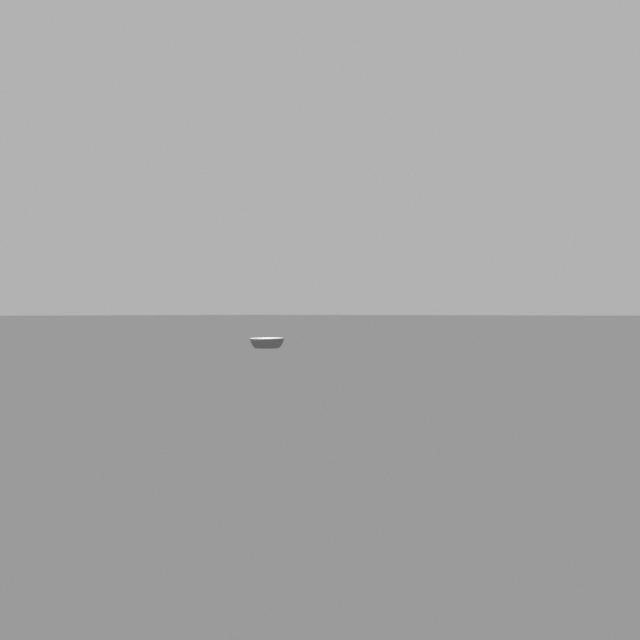bowl: (243, 328, 289, 352)
